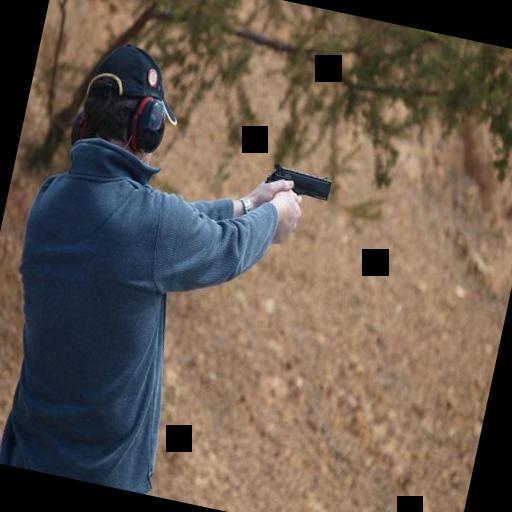Handgun: (256, 152, 338, 211)
